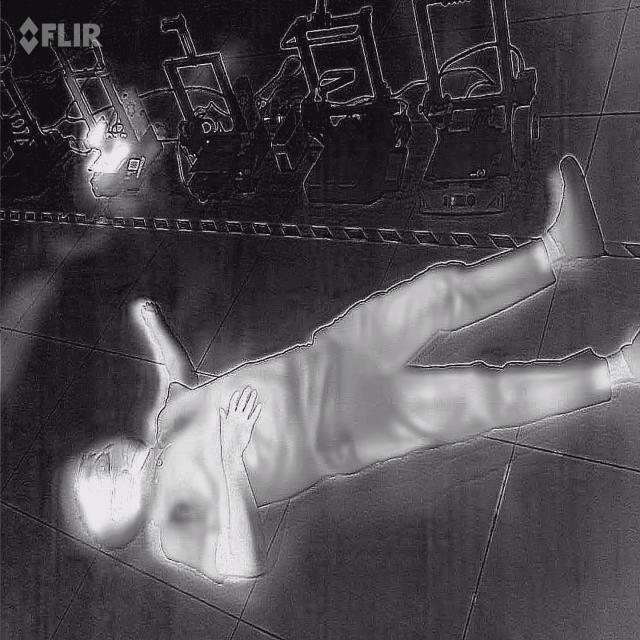Victim: (63, 144, 639, 591)
